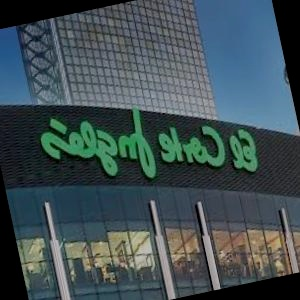corte_ingles: (251, 76, 284, 183)
